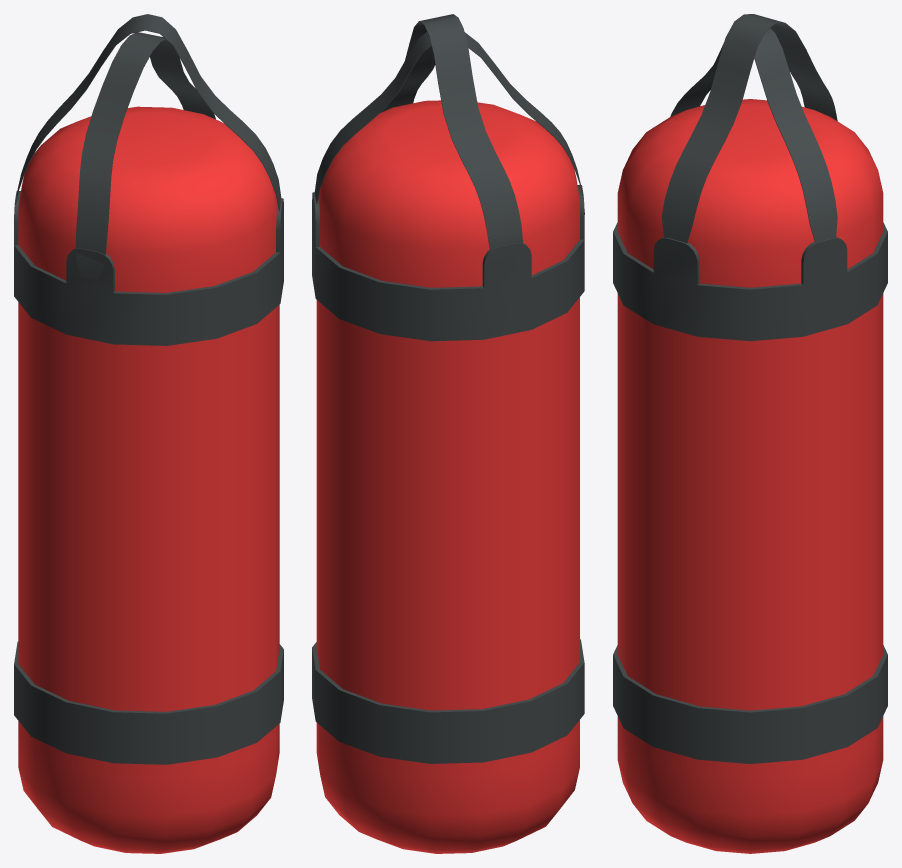
File: Sandbag.fbx
3 renders of one model, left to right at view 1: azimuth 30°, elevation 25°; view 2: azimuth 150°, elevation 25°; view 3: azimuth 270°, elevation 25°, orthographic.
Parts seen in each view (by area): view 1: Circle.001; view 2: Circle.001; view 3: Circle.001.
Part boxes in pixels (bbox=[...]): Circle.001: bbox=[14, 14, 283, 853]; Circle.001: bbox=[312, 14, 584, 853]; Circle.001: bbox=[613, 14, 887, 853].
Bounding box in the file's own units: 0.6847 × 2.21 × 0.6847.
